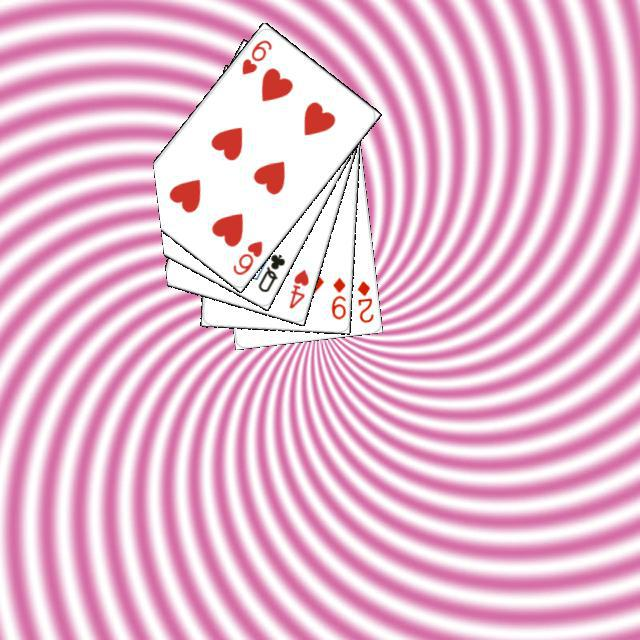2d: (352, 276, 375, 324)
4h: (284, 264, 311, 310)
6h: (236, 34, 274, 77), (228, 236, 264, 277)
9d: (326, 272, 347, 321)
Qc: (248, 241, 287, 294)
